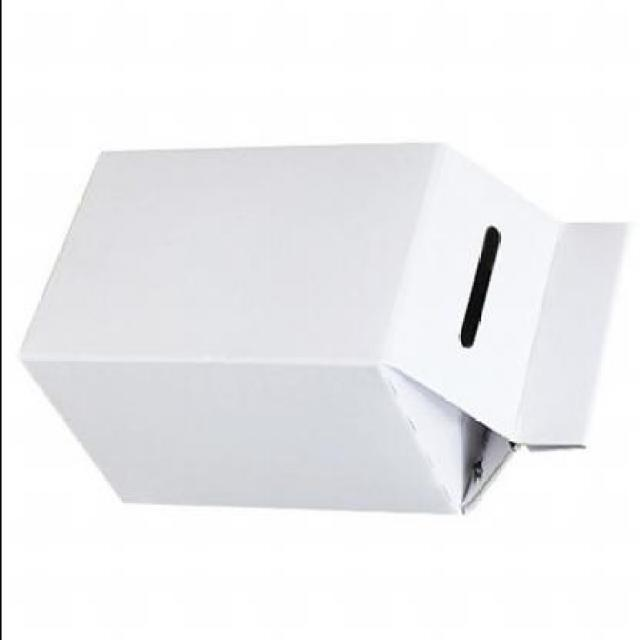non_white_jug: (1, 128, 638, 529)
